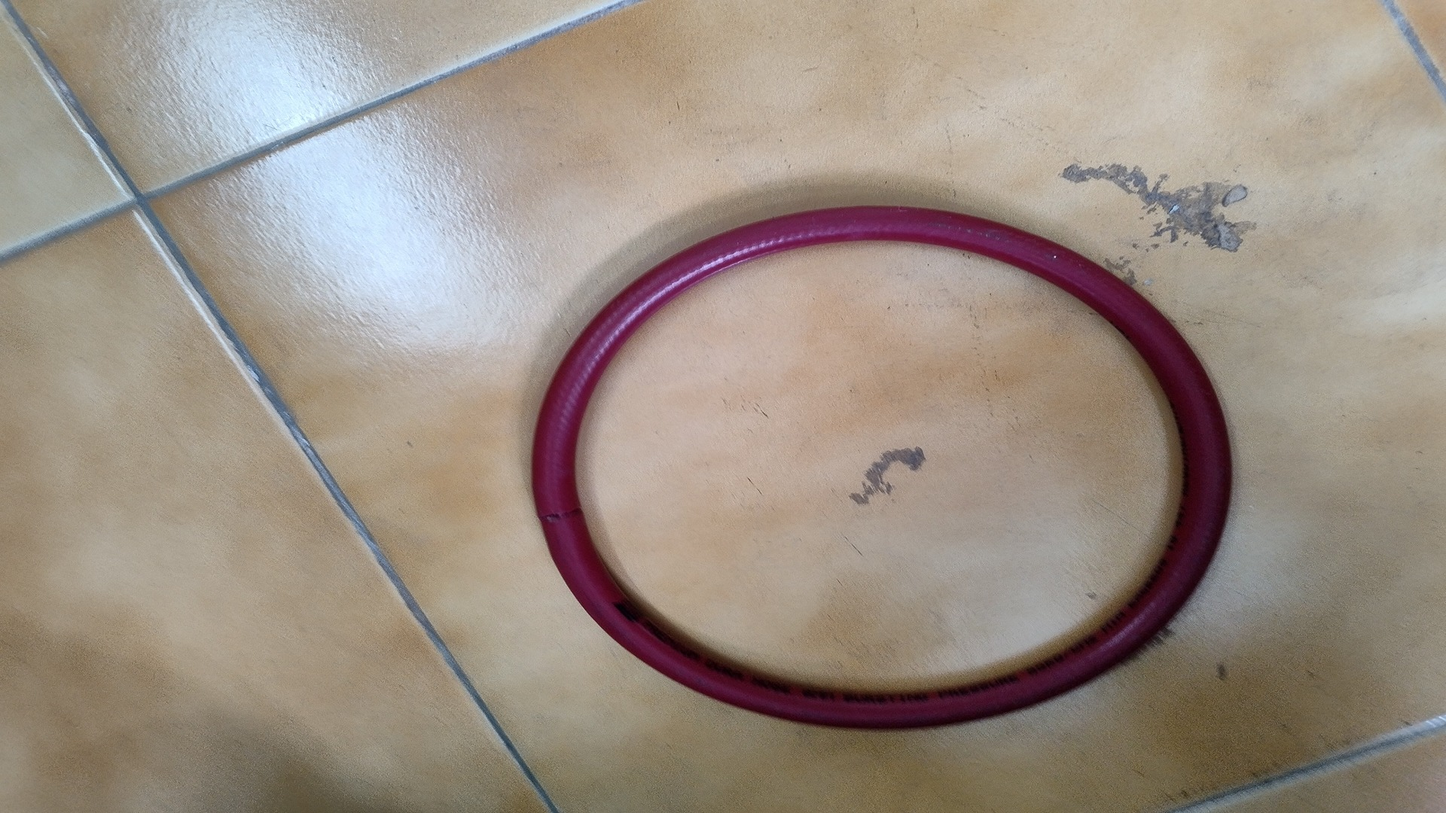Red ring: (528, 204, 1235, 732)
